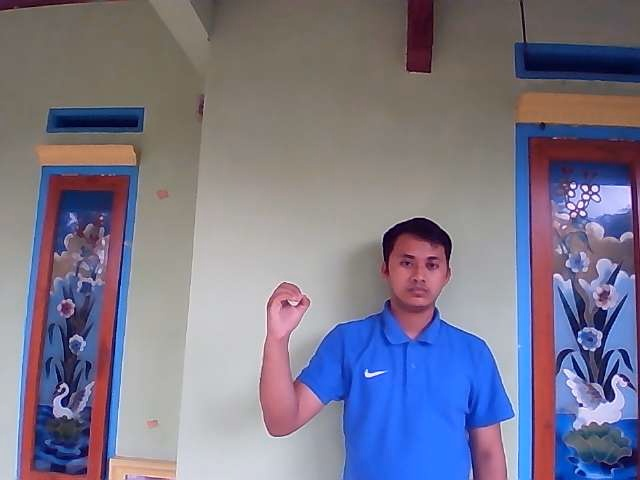O: (264, 281, 310, 340)
